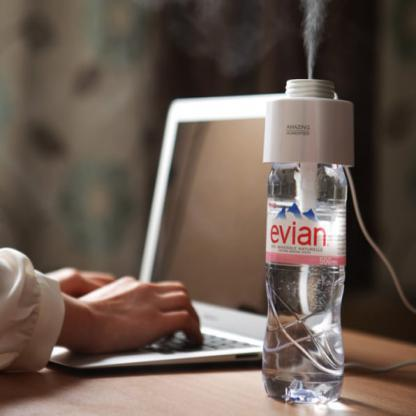plastic_bottle: (258, 71, 349, 403)
